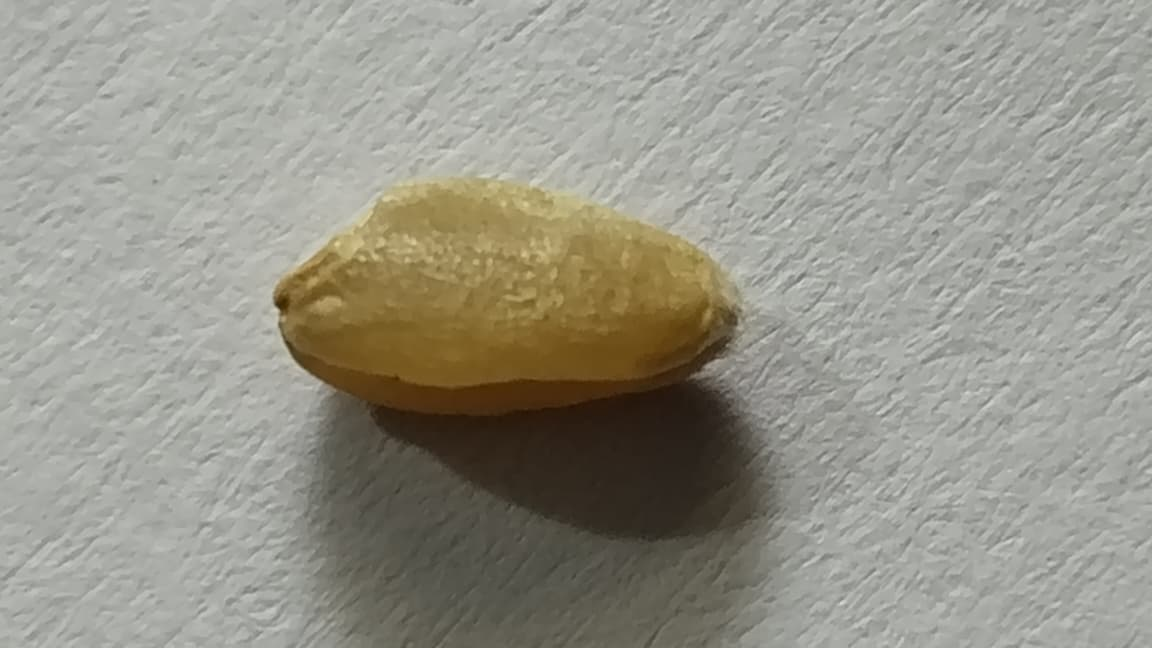healthy: (272, 174, 742, 417)
